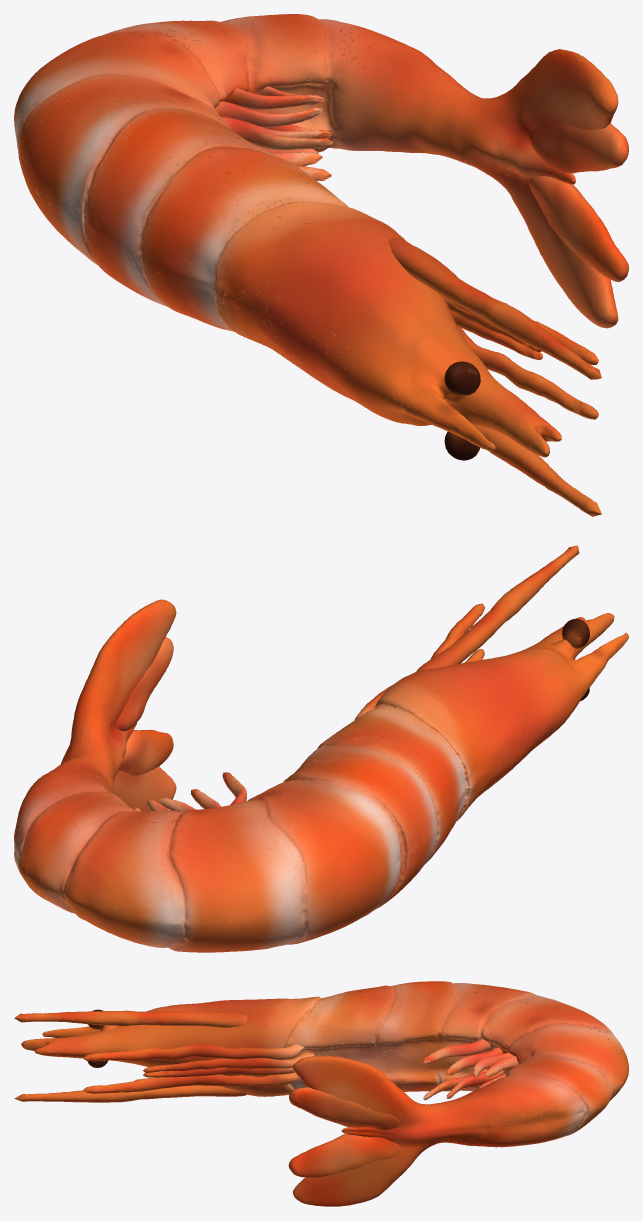
The model's file is shrimp.glb.
3 renders of one model, top to bottom at view 1: azimuth 30°, elevation 25°; view 2: azimuth 150°, elevation 25°; view 3: azimuth 270°, elevation 25°, orthographic. The views are drawn at different scales.
Parts seen in each view (by area): view 1: Object_6, Object_4, Object_5, Object_7, Object_2, Object_3; view 2: Object_4, Object_6, Object_5, Object_3, Object_7, Object_2; view 3: Object_6, Object_2, Object_5, Object_4, Object_7, Object_3.
Part boxes in pixels (box(x1,y1,x2,y2)): Object_6: box(19, 16, 628, 455); Object_4: box(15, 14, 494, 265); Object_5: box(15, 18, 433, 418); Object_7: box(18, 71, 628, 516); Object_2: box(146, 14, 598, 457); Object_3: box(14, 14, 405, 337); Object_4: box(14, 718, 464, 925); Object_6: box(14, 545, 628, 947); Object_5: box(61, 662, 603, 929); Object_3: box(14, 775, 466, 952); Object_7: box(26, 624, 626, 952); Object_2: box(17, 614, 614, 930); Object_6: box(14, 981, 628, 1188); Object_2: box(35, 1034, 614, 1147); Object_5: box(232, 981, 613, 1081); Object_4: box(320, 981, 624, 1112); Object_7: box(14, 1019, 613, 1206); Object_3: box(324, 1007, 628, 1146).
Size of the model in its own units: 2.76 by 1.55 by 5.77.
1 material, 1 textured.
